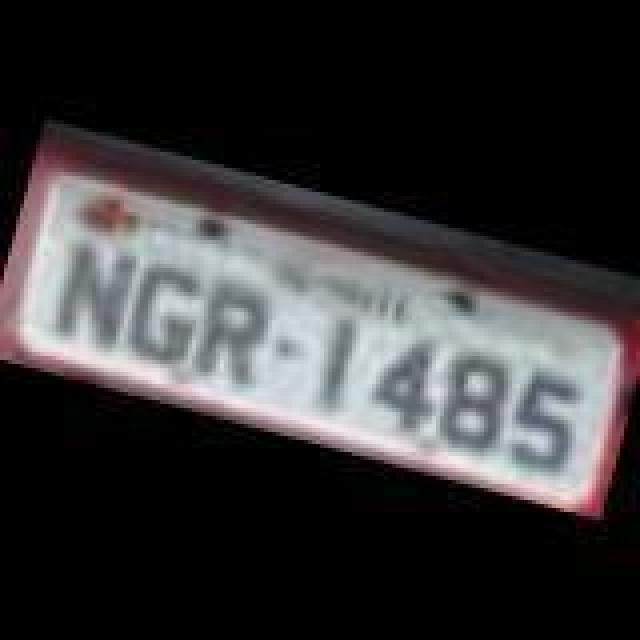1: (308, 304, 364, 408)
4: (360, 314, 456, 438)
5: (502, 362, 594, 478)
8: (428, 344, 524, 464)
G: (116, 246, 220, 378)
N: (46, 232, 146, 360)
R: (184, 278, 280, 394)
